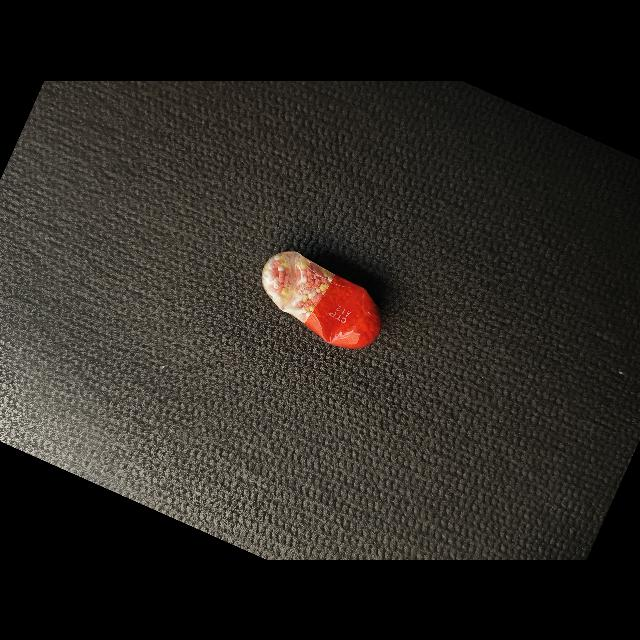Defective Capsule: (261, 251, 382, 348)
